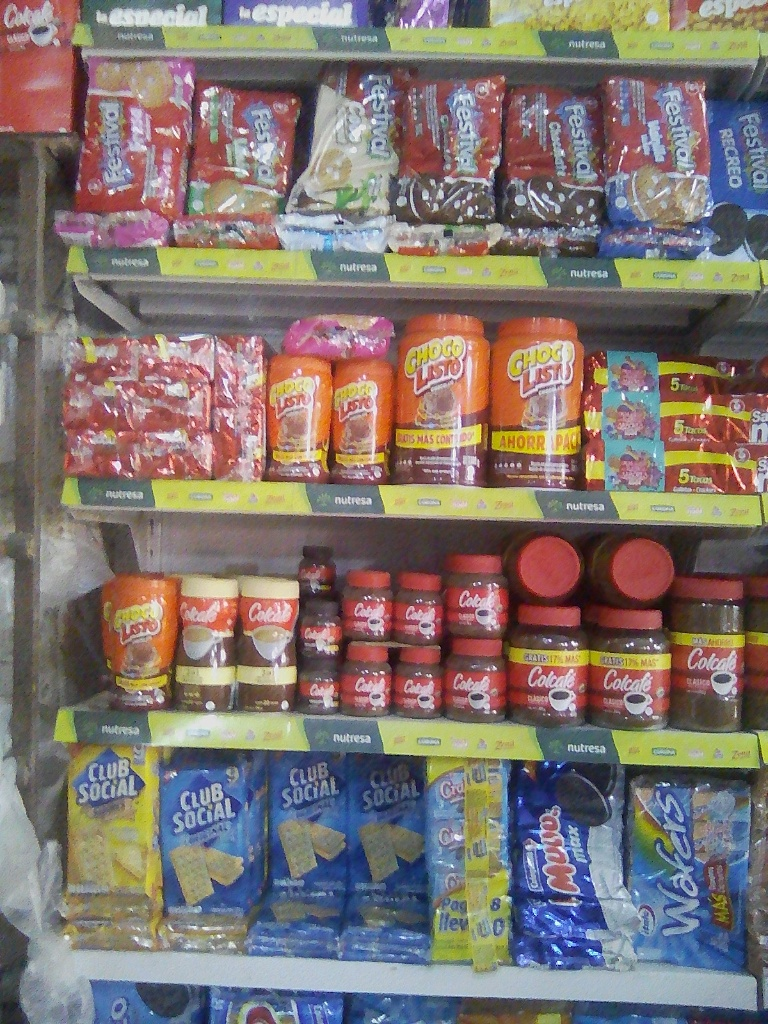COL0170103TRR00100: (393, 298, 493, 490)
